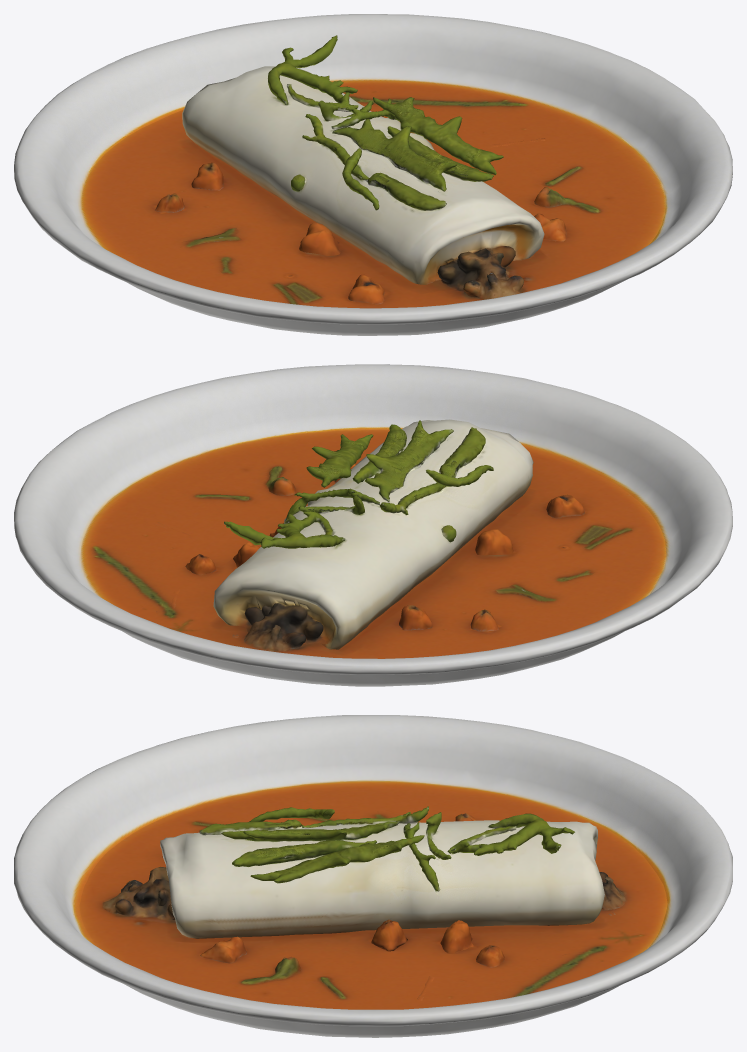
The model's file is omelette_leggero.fbx.
The picture shows the model from 3 angles, top to bottom: view 1: azimuth 30°, elevation 25°; view 2: azimuth 150°, elevation 25°; view 3: azimuth 270°, elevation 25°; orthographic projection.
Parts seen in each view (by area): view 1: meshes[0]; view 2: meshes[0]; view 3: meshes[0].
Boxes of the visible parts, <box> form: meshes[0]: <box>14,14,732,335</box>; meshes[0]: <box>14,364,732,686</box>; meshes[0]: <box>14,715,732,1037</box>.
Bounding box in the file's own units: 99.8 × 14.26 × 99.8.
1 material, 1 textured.
